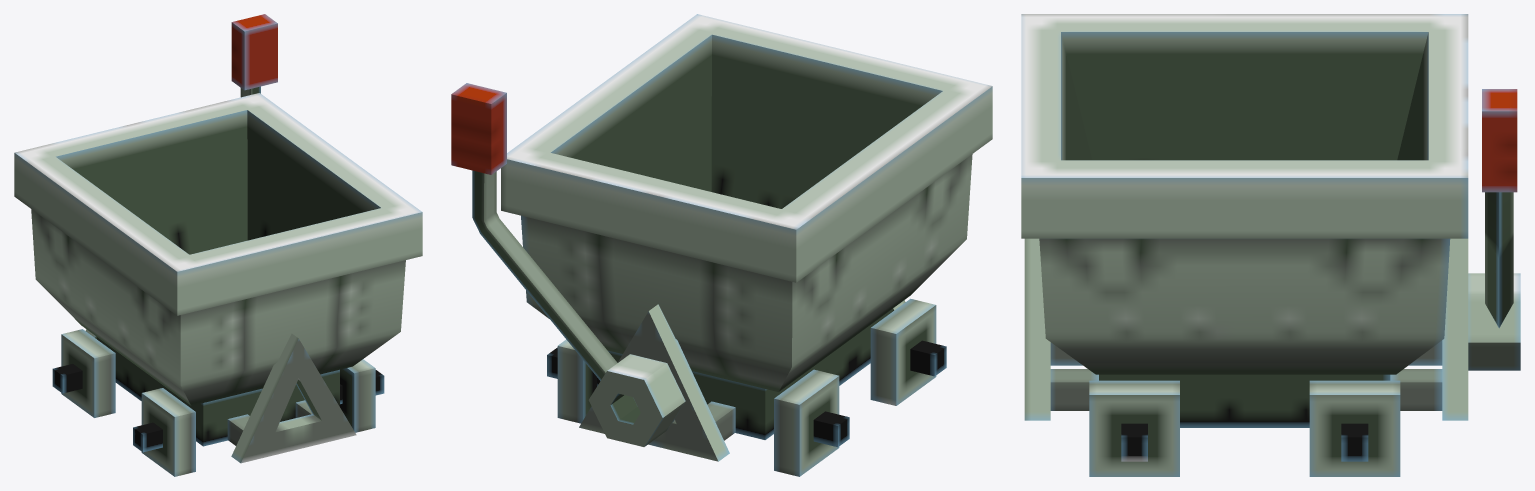
The model's file is sm_minecart.fbx.
3 views of the same model, side by side, from view 1: azimuth 30°, elevation 25°; view 2: azimuth 150°, elevation 25°; view 3: azimuth 270°, elevation 25° (orthographic). The views are drawn at different scales.
Visible parts, largest first — view 1: pCube39; view 2: pCube39; view 3: pCube39.
Boxes of the visible parts, x1=… form: pCube39: x1=14, y1=14, x2=422, y2=476; pCube39: x1=451, y1=14, x2=992, y2=476; pCube39: x1=1021, y1=14, x2=1520, y2=476.
Size of the model in its own units: 0.8569 by 0.8803 by 1.01.
Materials: 1 (1 with a texture image).
